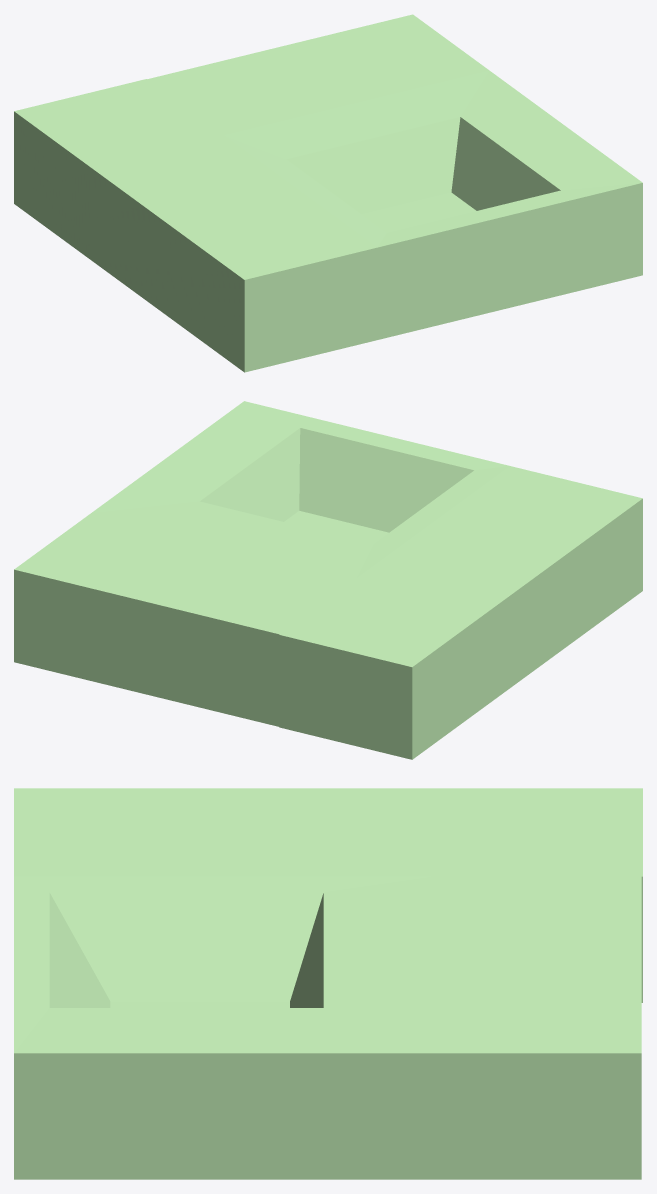
File: loo378.fbx
3 views of the same model, one above another, from view 1: azimuth 30°, elevation 25°; view 2: azimuth 150°, elevation 25°; view 3: azimuth 270°, elevation 25° (orthographic). The views are drawn at different scales.
Parts seen in each view (by area): view 1: Точка эндерменажа W, Точка эндерменажа N, Точка эндерменажа S, Точка эндерменажа E, Точка эндерменажа основа; view 2: Точка эндерменажа W, Точка эндерменажа N, Точка эндерменажа S, Точка эндерменажа E, Точка эндерменажа основа; view 3: Точка эндерменажа W, Точка эндерменажа N, Точка эндерменажа E, Точка эндерменажа S, Точка эндерменажа основа.
Boxes of the visible parts, x1,y1,x2,y2 form: Точка эндерменажа W: (14, 79, 386, 372); Точка эндерменажа N: (147, 14, 489, 214); Точка эндерменажа S: (377, 183, 642, 339); Точка эндерменажа E: (451, 70, 642, 210); Точка эндерменажа основа: (362, 192, 476, 232); Точка эндерменажа W: (279, 466, 642, 759); Точка эндерменажа N: (14, 501, 373, 726); Точка эндерменажа S: (245, 401, 509, 532); Точка эндерменажа E: (91, 401, 300, 521); Точка эндерменажа основа: (284, 511, 388, 543); Точка эндерменажа W: (14, 788, 642, 1002); Точка эндерменажа N: (290, 876, 641, 1179); Точка эндерменажа E: (14, 1008, 432, 1179); Точка эндерменажа S: (14, 877, 110, 1052); Точка эндерменажа основа: (110, 1001, 289, 1007).
Bounding box in the file's own units: 300 × 66.6 × 301.
